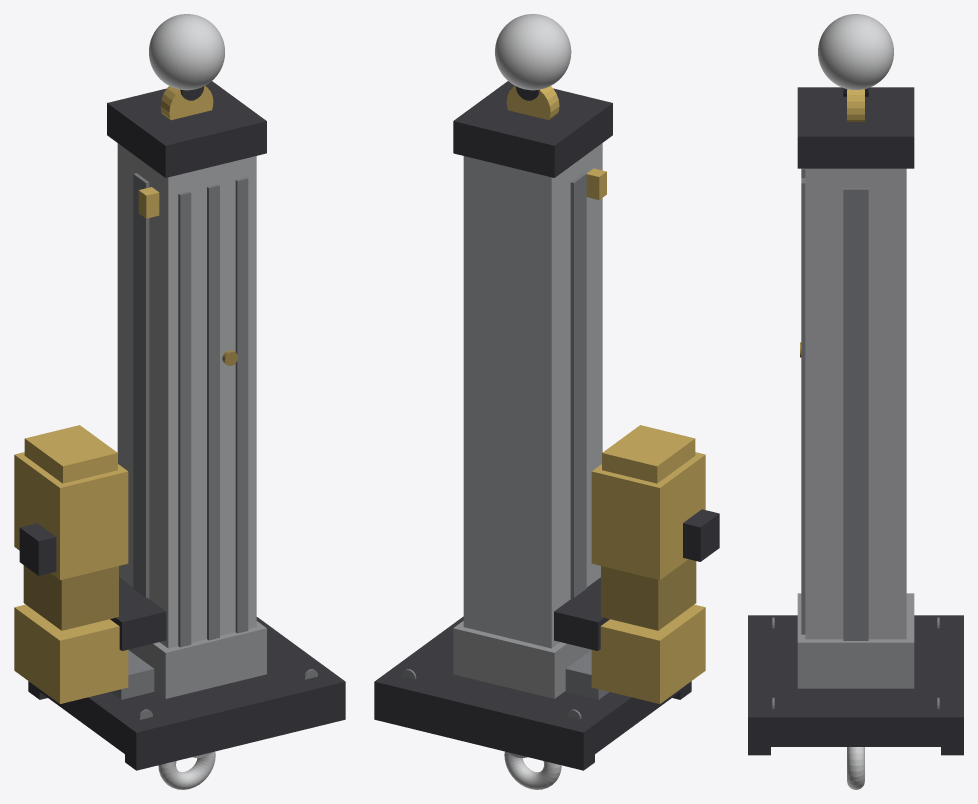
Rendered from side-cylinder.glb.
3 renders of one model, left to right at view 1: azimuth 30°, elevation 25°; view 2: azimuth 150°, elevation 25°; view 3: azimuth 270°, elevation 25°, orthographic.
Parts seen in each view (by area): view 1: geometry_0, geometry_13, geometry_22, geometry_8, geometry_25, geometry_5, geometry_1, geometry_3, geometry_12, geometry_2, geometry_24, geometry_11 (+8 smaller); view 2: geometry_0, geometry_13, geometry_22, geometry_8, geometry_25, geometry_5, geometry_12, geometry_24, geometry_11, geometry_23, geometry_27, geometry_15 (+4 smaller); view 3: geometry_0, geometry_13, geometry_4, geometry_8, geometry_12, geometry_11, geometry_3, geometry_21, geometry_9, geometry_14, geometry_15.
Part boxes in pixels (bbox=[...]): geometry_0: bbox=[117, 143, 256, 648]; geometry_13: bbox=[28, 617, 345, 761]; geometry_22: bbox=[14, 452, 128, 580]; geometry_8: bbox=[107, 81, 266, 177]; geometry_25: bbox=[14, 604, 128, 703]; geometry_5: bbox=[133, 173, 149, 598]; geometry_1: bbox=[178, 191, 191, 647]; geometry_3: bbox=[235, 177, 248, 633]; geometry_12: bbox=[128, 621, 266, 698]; geometry_2: bbox=[207, 184, 219, 640]; geometry_24: bbox=[23, 565, 118, 630]; geometry_11: bbox=[149, 14, 224, 90]; geometry_0: bbox=[463, 143, 602, 648]; geometry_13: bbox=[374, 616, 691, 762]; geometry_22: bbox=[591, 452, 705, 580]; geometry_8: bbox=[453, 81, 612, 177]; geometry_25: bbox=[591, 604, 705, 703]; geometry_5: bbox=[570, 173, 586, 598]; geometry_12: bbox=[453, 621, 591, 698]; geometry_24: bbox=[601, 559, 696, 630]; geometry_11: bbox=[495, 14, 571, 90]; geometry_23: bbox=[602, 425, 695, 483]; geometry_27: bbox=[554, 577, 609, 650]; geometry_15: bbox=[374, 711, 594, 770]; geometry_0: bbox=[805, 168, 906, 639]; geometry_13: bbox=[748, 615, 963, 746]; geometry_4: bbox=[843, 188, 868, 640]; geometry_8: bbox=[797, 87, 914, 168]; geometry_12: bbox=[797, 593, 914, 688]; geometry_11: bbox=[818, 14, 893, 89]; geometry_3: bbox=[801, 178, 805, 634]; geometry_21: bbox=[847, 747, 864, 789]; geometry_9: bbox=[847, 89, 864, 121]; geometry_14: bbox=[748, 734, 770, 755]; geometry_15: bbox=[941, 734, 963, 755].
Bounding box in the file's own units: 0.247 × 0.669 × 0.17.
